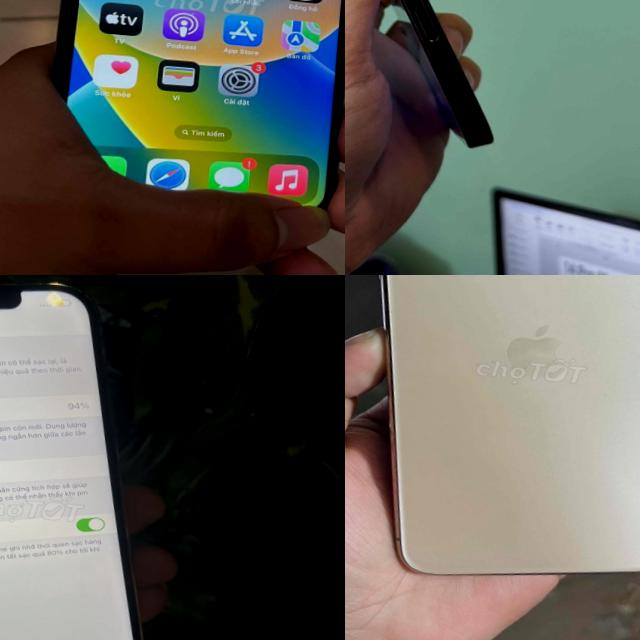gen_11: (345, 275, 640, 605), (30, 0, 345, 239)
gen_12_13: (0, 275, 182, 640)
gen_16: (399, 0, 492, 146)
